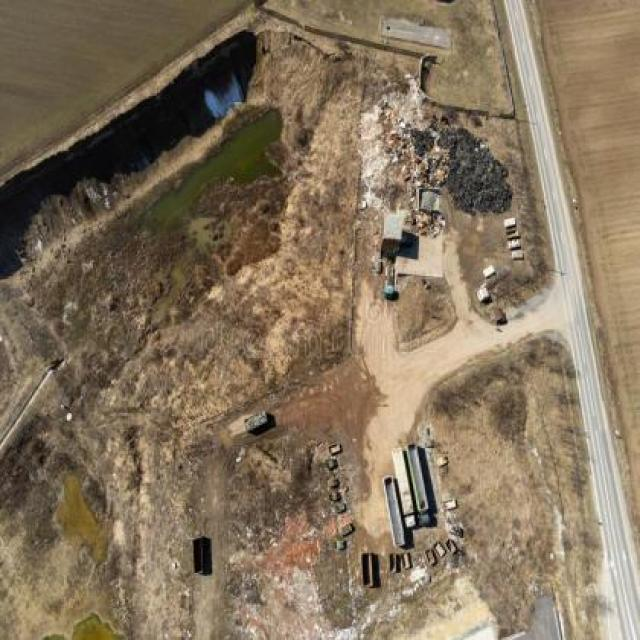tank: (244, 408, 268, 436)
